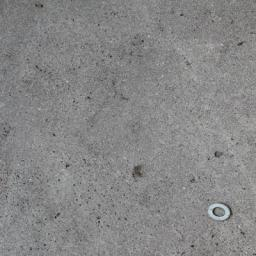FOD: (204, 201, 234, 226)
